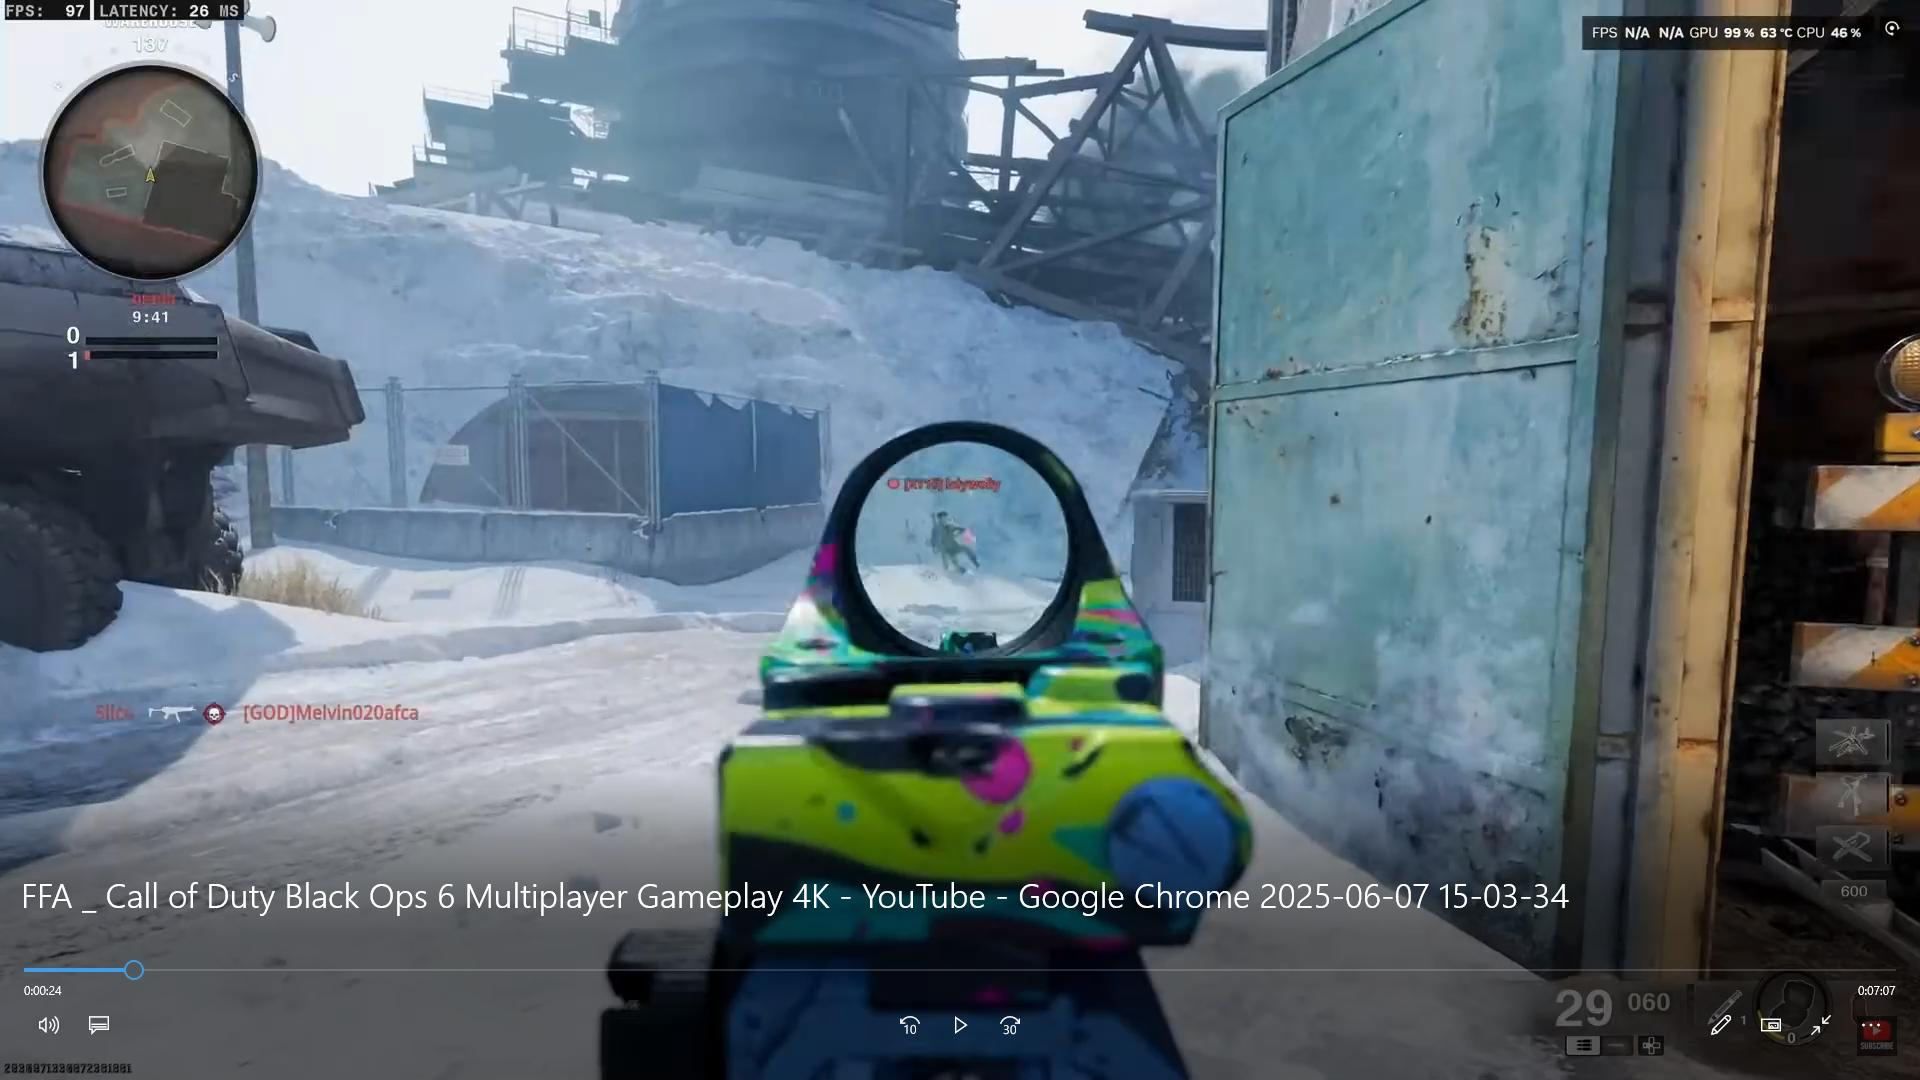Enemy: (893, 467, 1000, 588)
